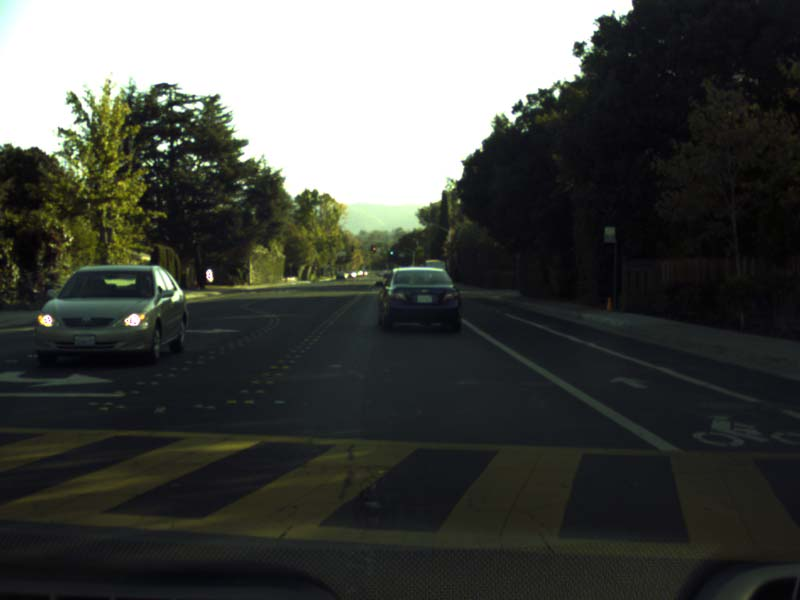Green: (388, 250, 393, 254)
Red: (372, 246, 374, 251)
